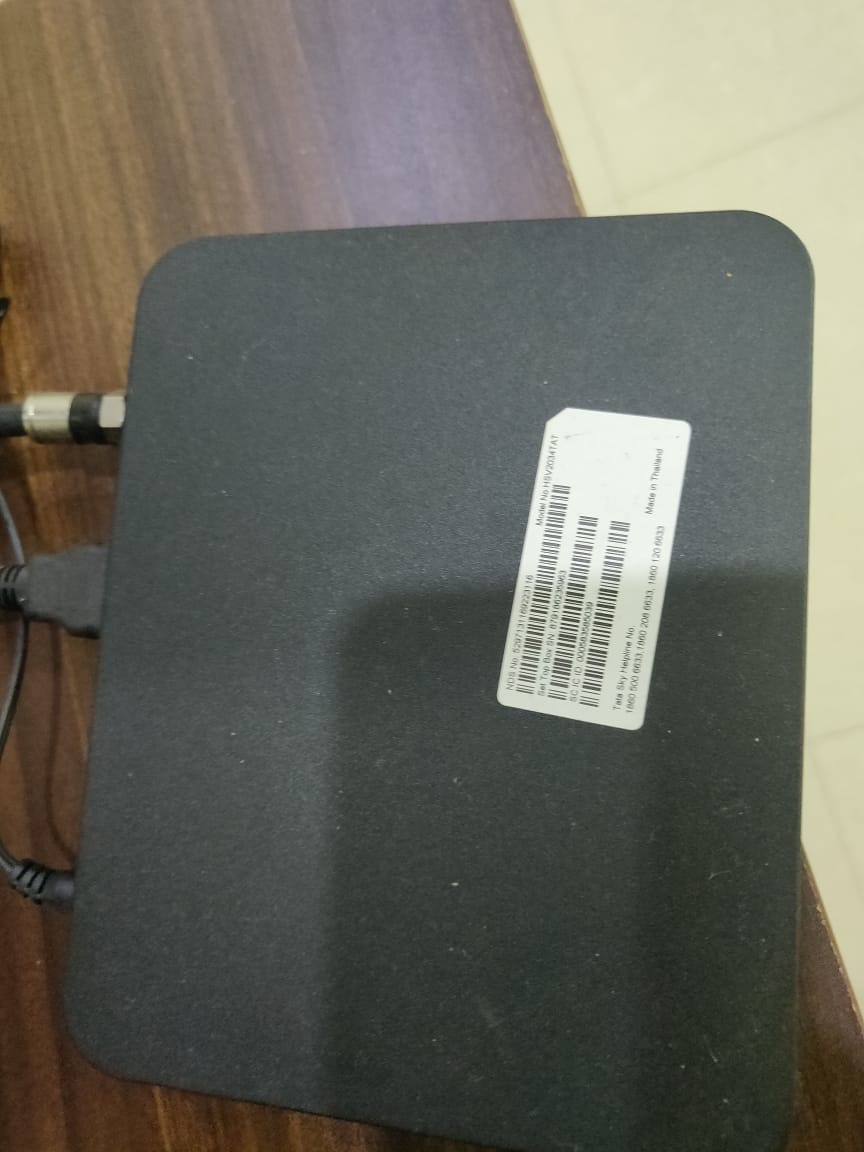barcode: (515, 418, 632, 713)
